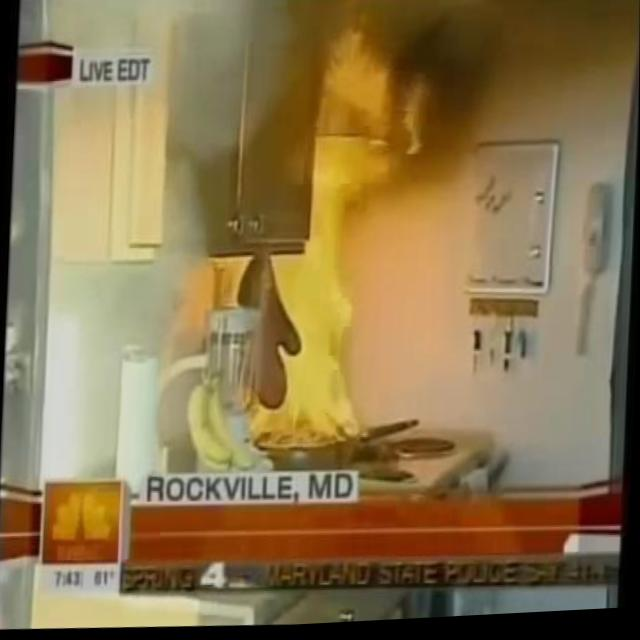fire: (253, 36, 431, 455)
